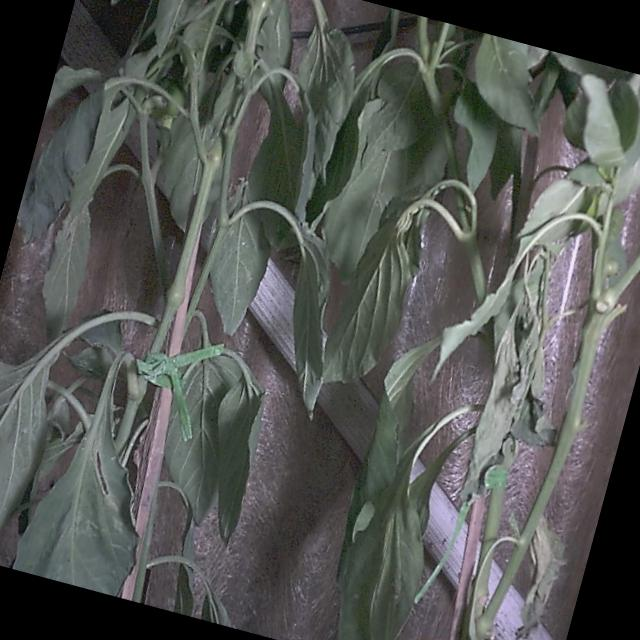Leaf: (15, 371, 136, 595), (323, 213, 420, 382), (17, 90, 103, 241), (0, 357, 49, 529), (218, 378, 263, 543), (210, 213, 270, 335), (293, 231, 330, 414), (475, 34, 538, 134), (43, 206, 90, 339)
